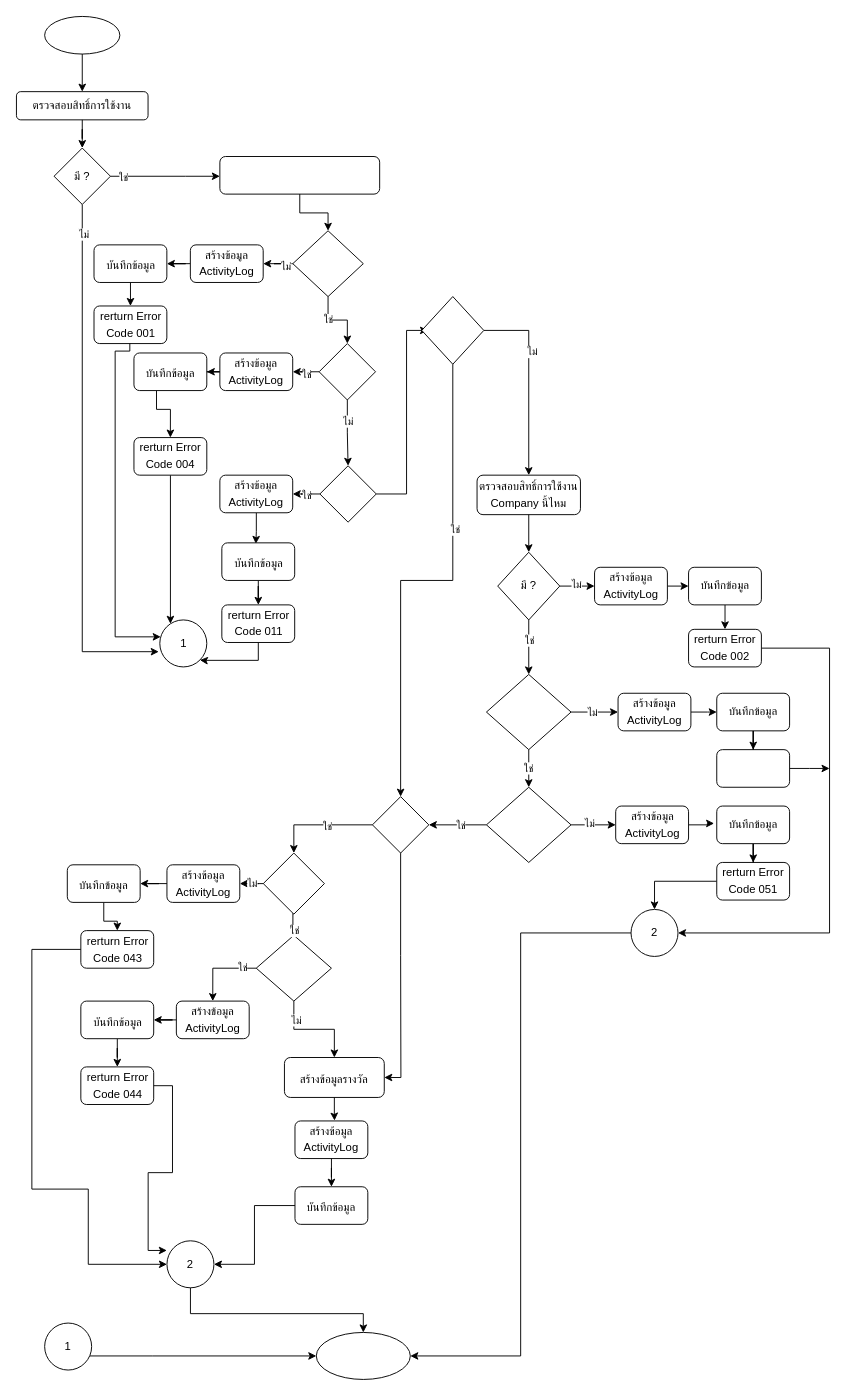
The diagram is 854 pixels wide and 1396 high, and some of its shapes have lost their labels. The shapes that lost their labels are listed below. From the top down, each one's centre as x and y in pixels, then its label:
point (82, 35): เริ่ม
point (299, 175): ตรวจสอบ Account สถานะการใช้งาน
point (327, 263): มีใน ระบบ ?
point (452, 330): Super Admin ?
point (347, 371): status = 1 ?
point (347, 493): Locked = 1 ?
point (528, 712): Company มีในระบบ ไหม ?
point (753, 768): rerturn Error Code 007
point (400, 824): Picture?
point (528, 824): Company Active ?
point (293, 883): ไฟล รูปภาพ ?
point (293, 967): ขนาดไฟล > 50mb ?
point (362, 1355): สิ้นสุด
